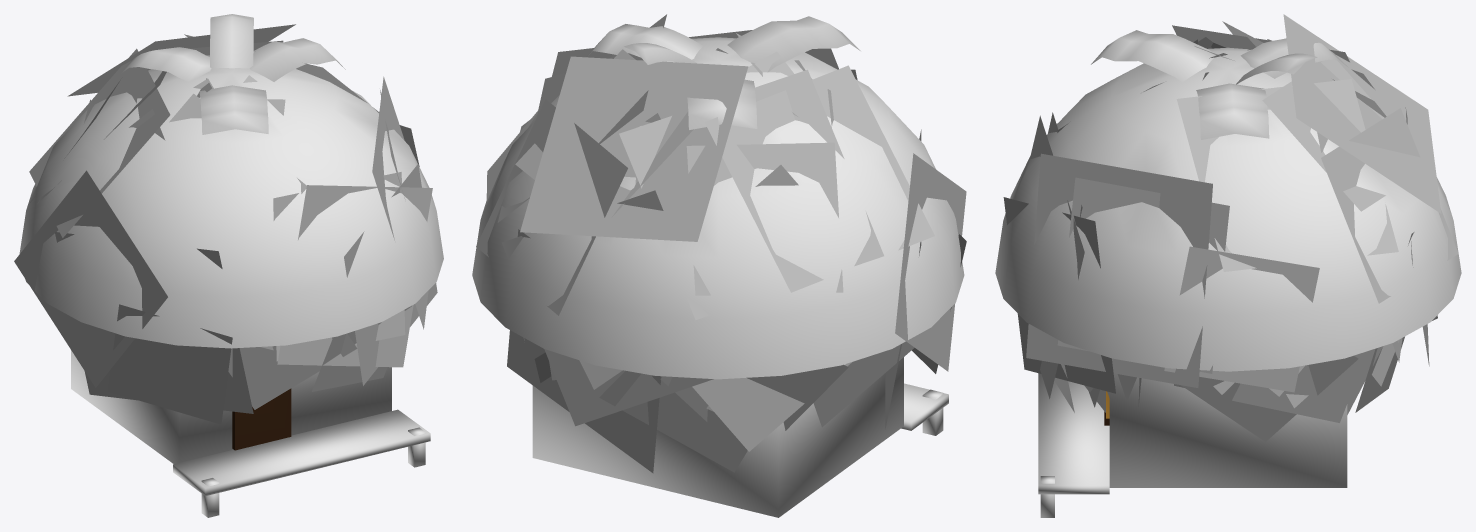
Rendered from cabane0.glb.
3 views of the same model, side by side, from view 1: azimuth 30°, elevation 25°; view 2: azimuth 150°, elevation 25°; view 3: azimuth 270°, elevation 25° (orthographic). The views are drawn at different scales.
Visible parts, largest first — view 1: dome, touffes, terrasse, murs, palmes, porte; view 2: touffes, dome, murs, palmes, terrasse; view 3: dome, touffes, murs, palmes, terrasse.
Part boxes in pixels (<box>): dome: <box>19,55,443,348</box>; touffes: <box>14,24,437,424</box>; terrasse: <box>173,409,430,517</box>; murs: <box>71,350,391,463</box>; palmes: <box>119,14,345,134</box>; porte: <box>232,388,291,450</box>; touffes: <box>476,14,966,473</box>; dome: <box>472,37,964,379</box>; murs: <box>532,357,903,517</box>; palmes: <box>587,16,860,129</box>; terrasse: <box>901,383,948,435</box>; dome: <box>995,47,1461,371</box>; touffes: <box>1003,14,1458,441</box>; murs: <box>1109,373,1347,487</box>; palmes: <box>1091,30,1348,139</box>; terrasse: <box>1038,373,1109,517</box>.
Size of the model in its own units: 6 by 5.83 by 5.89.
